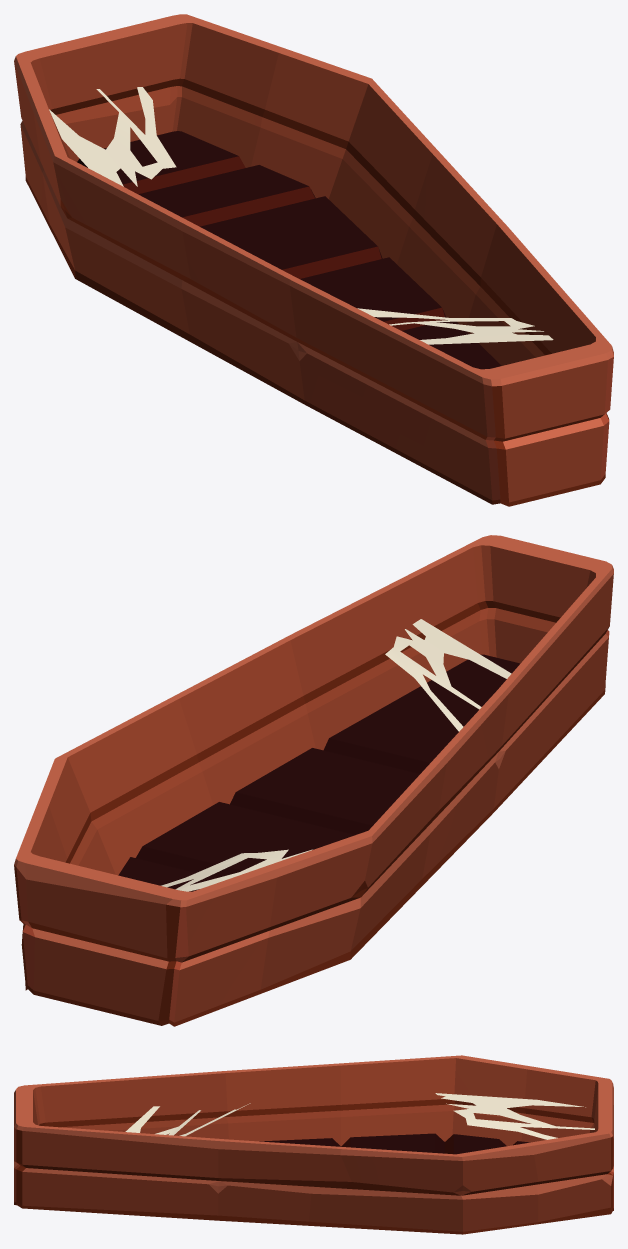
Rendered from HWN20_CoffinBase.gltf.
The picture shows the model from 3 angles, top to bottom: view 1: azimuth 30°, elevation 25°; view 2: azimuth 150°, elevation 25°; view 3: azimuth 270°, elevation 25°; orthographic projection. The views are drawn at different scales.
Visible parts, largest first — view 1: HWN20_CoffinBase_glb; view 2: HWN20_CoffinBase_glb; view 3: HWN20_CoffinBase_glb.
Boxes of the visible parts, left/top/right/bottom form: HWN20_CoffinBase_glb: left=14, top=14, right=613, bottom=506; HWN20_CoffinBase_glb: left=14, top=535, right=613, bottom=1026; HWN20_CoffinBase_glb: left=14, top=1055, right=613, bottom=1234.
Size of what is drawn, in the model's own units: 1.19 by 0.466 by 2.95.
1 material, 1 textured.
